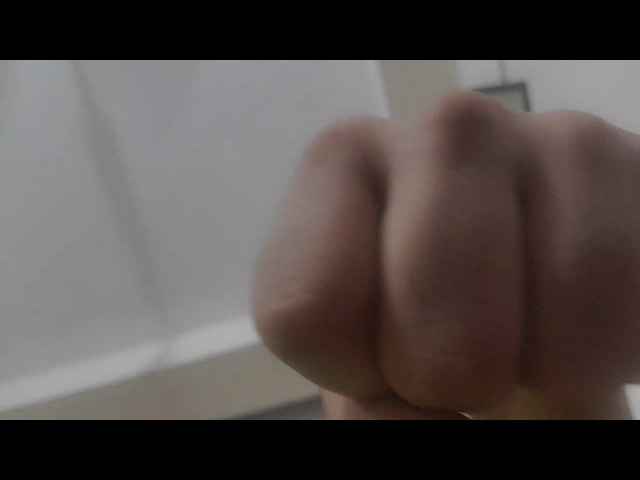Yes: (209, 84, 640, 416)
